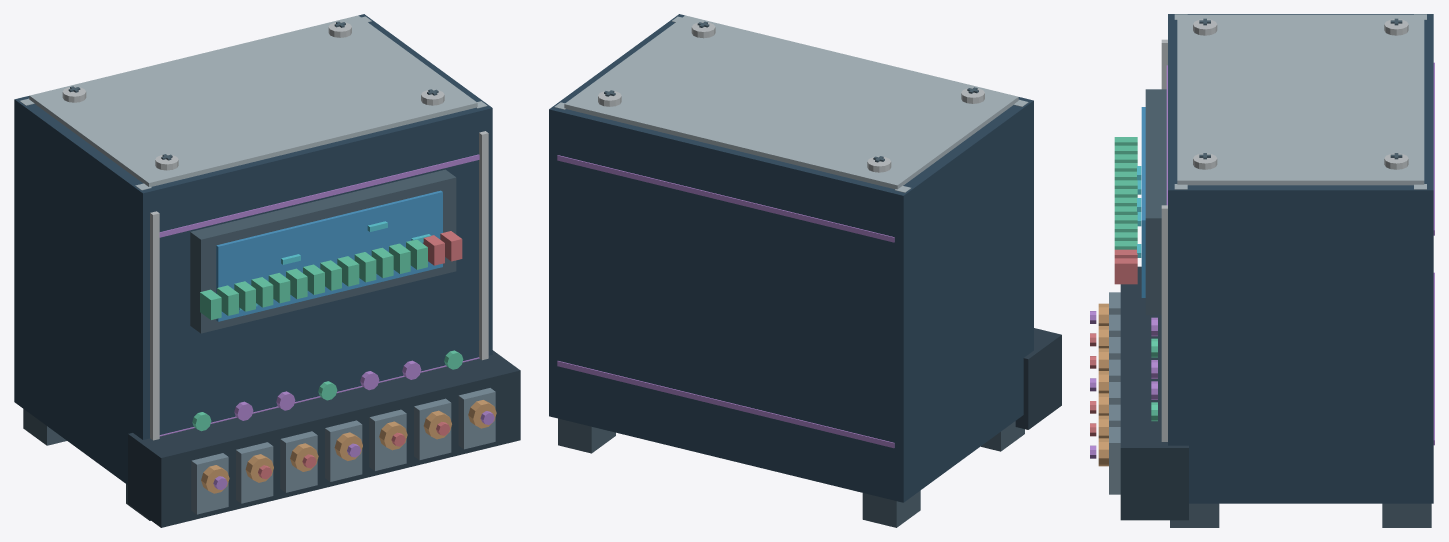
Rendered from 42_L75_IonSpeciesPurityAnalyzer.glb.
3 renders of one model, left to right at view 1: azimuth 30°, elevation 25°; view 2: azimuth 150°, elevation 25°; view 3: azimuth 270°, elevation 25°, orthographic. The views are drawn at different scales.
Visible parts, largest first — view 1: IonSpeciesPurityAnalyzer_Node_0000, IonSpeciesPurityAnalyzer_Node_0007, IonSpeciesPurityAnalyzer_Node_0042, IonSpeciesPurityAnalyzer_Node_0025, IonSpeciesPurityAnalyzer_Node_0024, IonSpeciesPurityAnalyzer_Node_0005, IonSpeciesPurityAnalyzer_Node_0006, IonSpeciesPurityAnalyzer_Node_0023, IonSpeciesPurityAnalyzer_Node_0046, IonSpeciesPurityAnalyzer_Node_0049, IonSpeciesPurityAnalyzer_Node_0061, IonSpeciesPurityAnalyzer_Node_0055 (+4 smaller); view 2: IonSpeciesPurityAnalyzer_Node_0000, IonSpeciesPurityAnalyzer_Node_0007, IonSpeciesPurityAnalyzer_Node_0042, IonSpeciesPurityAnalyzer_Node_0020, IonSpeciesPurityAnalyzer_Node_0022, IonSpeciesPurityAnalyzer_Node_0038, IonSpeciesPurityAnalyzer_Node_0040, IonSpeciesPurityAnalyzer_Node_0039; view 3: IonSpeciesPurityAnalyzer_Node_0000, IonSpeciesPurityAnalyzer_Node_0007, IonSpeciesPurityAnalyzer_Node_0042, IonSpeciesPurityAnalyzer_Node_0024, IonSpeciesPurityAnalyzer_Node_0006, IonSpeciesPurityAnalyzer_Node_0040, IonSpeciesPurityAnalyzer_Node_0025, IonSpeciesPurityAnalyzer_Node_0041, IonSpeciesPurityAnalyzer_Node_0061, IonSpeciesPurityAnalyzer_Node_0078.
Boxes of the visible parts, bbox=[...] form: IonSpeciesPurityAnalyzer_Node_0000: bbox=[14, 14, 492, 484]; IonSpeciesPurityAnalyzer_Node_0007: bbox=[29, 15, 477, 186]; IonSpeciesPurityAnalyzer_Node_0042: bbox=[128, 350, 520, 527]; IonSpeciesPurityAnalyzer_Node_0025: bbox=[216, 190, 442, 321]; IonSpeciesPurityAnalyzer_Node_0024: bbox=[190, 169, 456, 333]; IonSpeciesPurityAnalyzer_Node_0005: bbox=[150, 211, 159, 440]; IonSpeciesPurityAnalyzer_Node_0006: bbox=[479, 131, 488, 360]; IonSpeciesPurityAnalyzer_Node_0023: bbox=[159, 154, 479, 237]; IonSpeciesPurityAnalyzer_Node_0046: bbox=[236, 442, 273, 503]; IonSpeciesPurityAnalyzer_Node_0049: bbox=[280, 431, 317, 492]; IonSpeciesPurityAnalyzer_Node_0061: bbox=[458, 388, 495, 449]; IonSpeciesPurityAnalyzer_Node_0055: bbox=[369, 409, 406, 470]; IonSpeciesPurityAnalyzer_Node_0000: bbox=[549, 14, 1033, 502]; IonSpeciesPurityAnalyzer_Node_0007: bbox=[564, 15, 1018, 189]; IonSpeciesPurityAnalyzer_Node_0042: bbox=[1015, 328, 1061, 429]; IonSpeciesPurityAnalyzer_Node_0020: bbox=[557, 361, 894, 448]; IonSpeciesPurityAnalyzer_Node_0022: bbox=[557, 155, 894, 242]; IonSpeciesPurityAnalyzer_Node_0038: bbox=[862, 490, 920, 527]; IonSpeciesPurityAnalyzer_Node_0040: bbox=[558, 418, 615, 453]; IonSpeciesPurityAnalyzer_Node_0039: bbox=[981, 421, 1024, 451]; IonSpeciesPurityAnalyzer_Node_0000: bbox=[1168, 14, 1433, 503]; IonSpeciesPurityAnalyzer_Node_0007: bbox=[1177, 14, 1424, 185]; IonSpeciesPurityAnalyzer_Node_0042: bbox=[1120, 266, 1188, 520]; IonSpeciesPurityAnalyzer_Node_0024: bbox=[1145, 89, 1166, 315]; IonSpeciesPurityAnalyzer_Node_0006: bbox=[1161, 205, 1167, 441]; IonSpeciesPurityAnalyzer_Node_0040: bbox=[1382, 503, 1431, 527]; IonSpeciesPurityAnalyzer_Node_0025: bbox=[1141, 107, 1145, 297]; IonSpeciesPurityAnalyzer_Node_0041: bbox=[1170, 503, 1219, 527]; IonSpeciesPurityAnalyzer_Node_0061: bbox=[1109, 427, 1120, 494]; IonSpeciesPurityAnalyzer_Node_0078: bbox=[1114, 258, 1137, 284].
Size of the model in its own units: 1.13 by 1.03 by 0.908.
